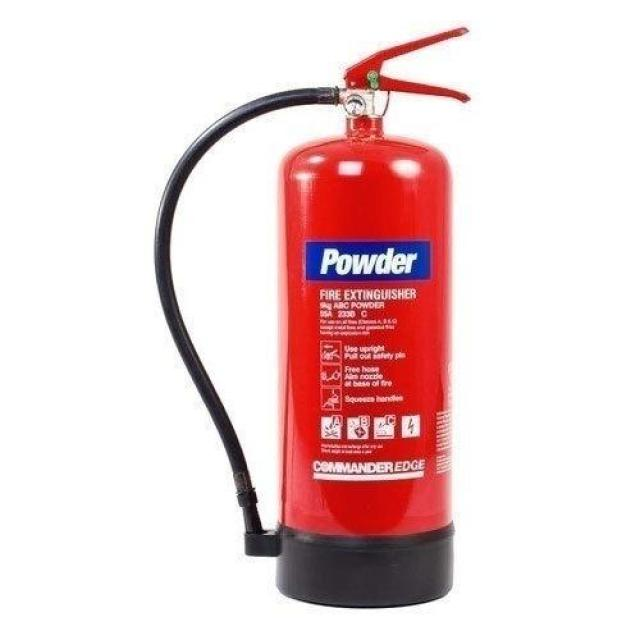fire_extinguisher: (148, 22, 472, 610)
